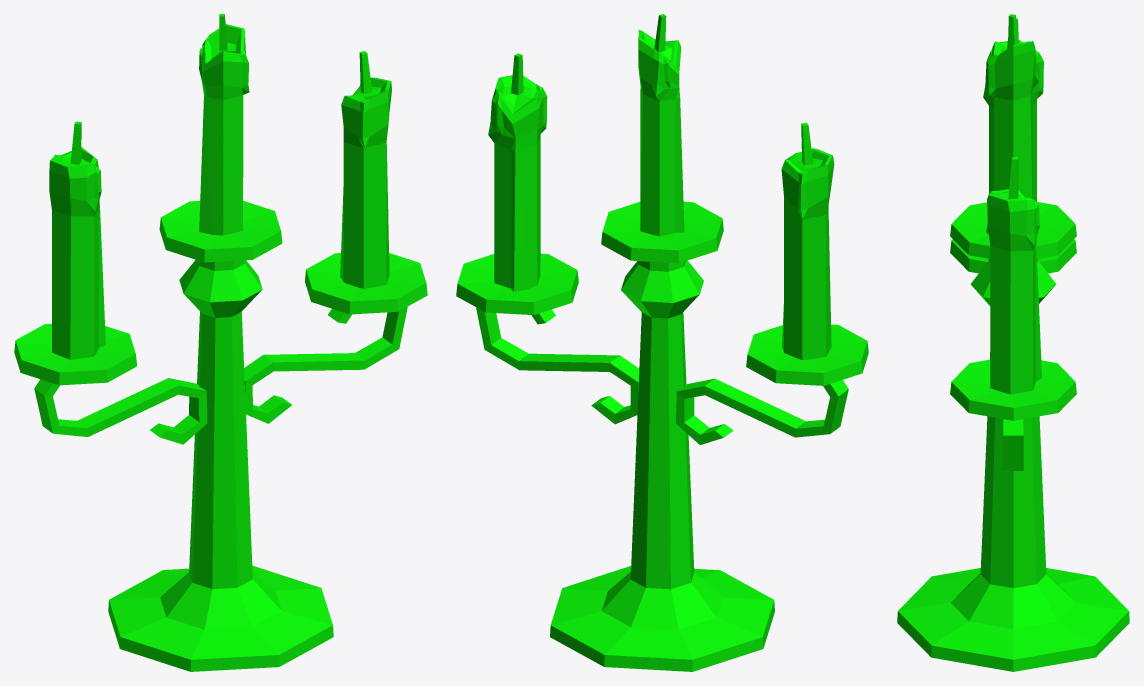
File: SM_Candle_Table_B_Unlit_Fantasy.fbx
3 renders of one model, left to right at view 1: azimuth 30°, elevation 25°; view 2: azimuth 150°, elevation 25°; view 3: azimuth 270°, elevation 25°, orthographic.
Parts seen in each view (by area): view 1: candle-table-b-unlit-fantasy; view 2: candle-table-b-unlit-fantasy; view 3: candle-table-b-unlit-fantasy.
Boxes of the visible parts, bbox=[...] form: candle-table-b-unlit-fantasy: bbox=[14, 14, 427, 671]; candle-table-b-unlit-fantasy: bbox=[456, 14, 868, 671]; candle-table-b-unlit-fantasy: bbox=[897, 14, 1129, 671].
Size of the model in its own units: 0.3291 by 0.4786 by 0.166.
